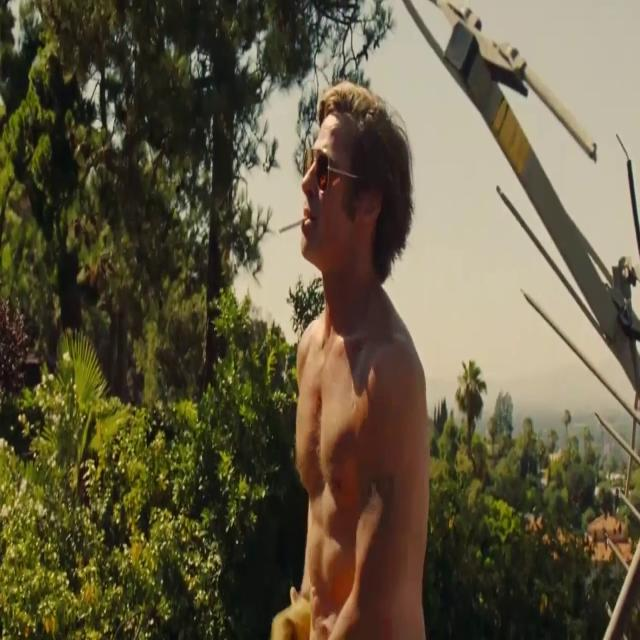Smooking: (275, 203, 307, 242)
